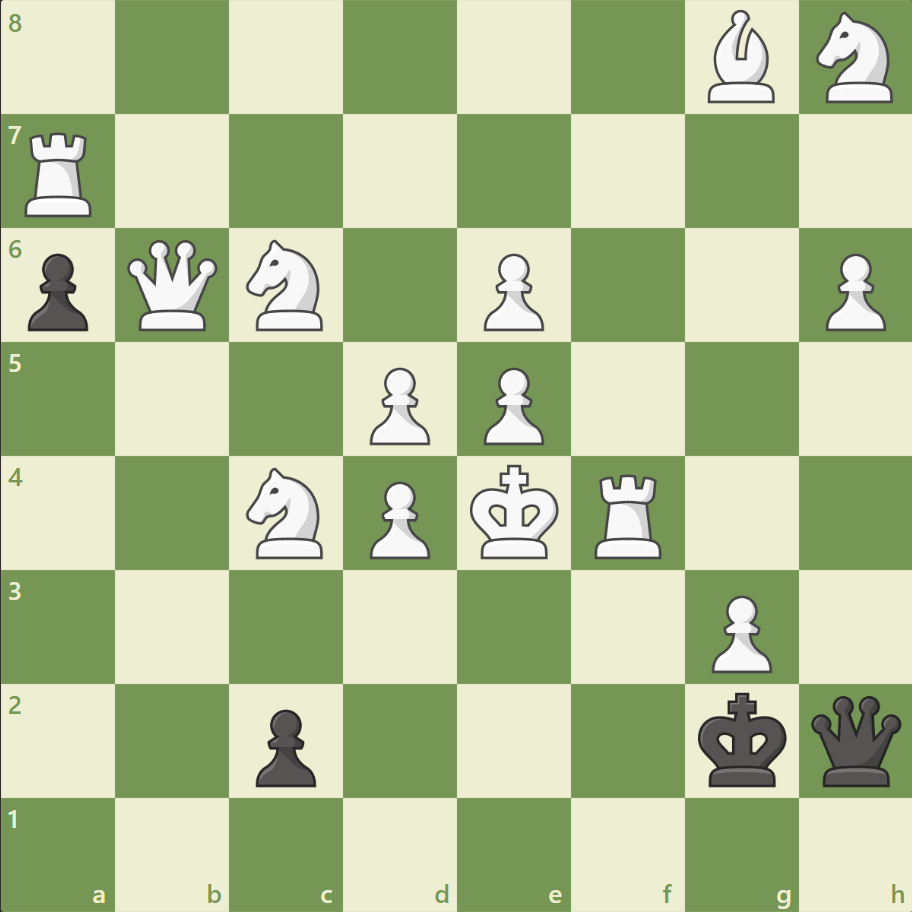B: (698, 6, 782, 109)
K: (465, 458, 565, 566)
N: (806, 7, 903, 110), (238, 234, 335, 337), (238, 461, 335, 564)
P: (474, 246, 549, 337), (474, 359, 549, 450), (701, 586, 776, 677), (815, 246, 889, 337), (361, 359, 435, 450), (361, 473, 435, 564)
Q: (124, 236, 223, 335)
R: (19, 125, 102, 222), (587, 466, 670, 563)
k: (692, 685, 792, 793)
p: (20, 246, 95, 337), (247, 700, 322, 791)
q: (805, 690, 904, 789)
